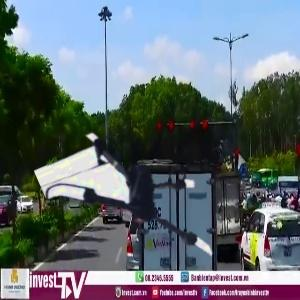drone: (56, 119, 226, 289)
